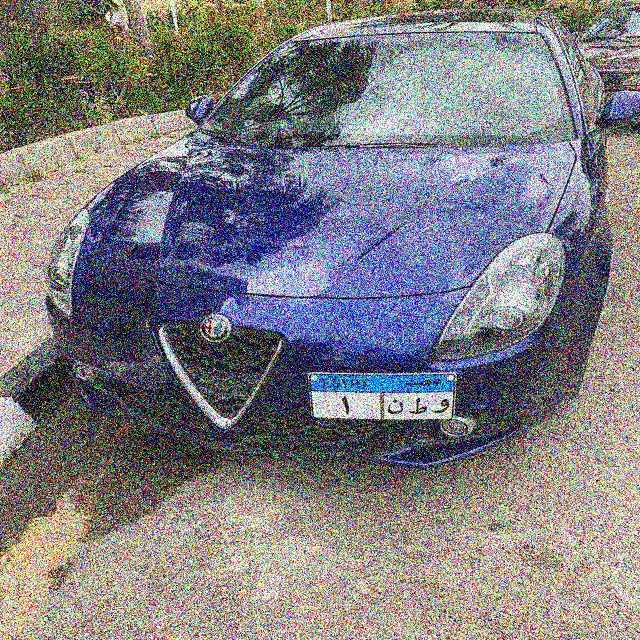License Plate: (306, 371, 458, 421)
